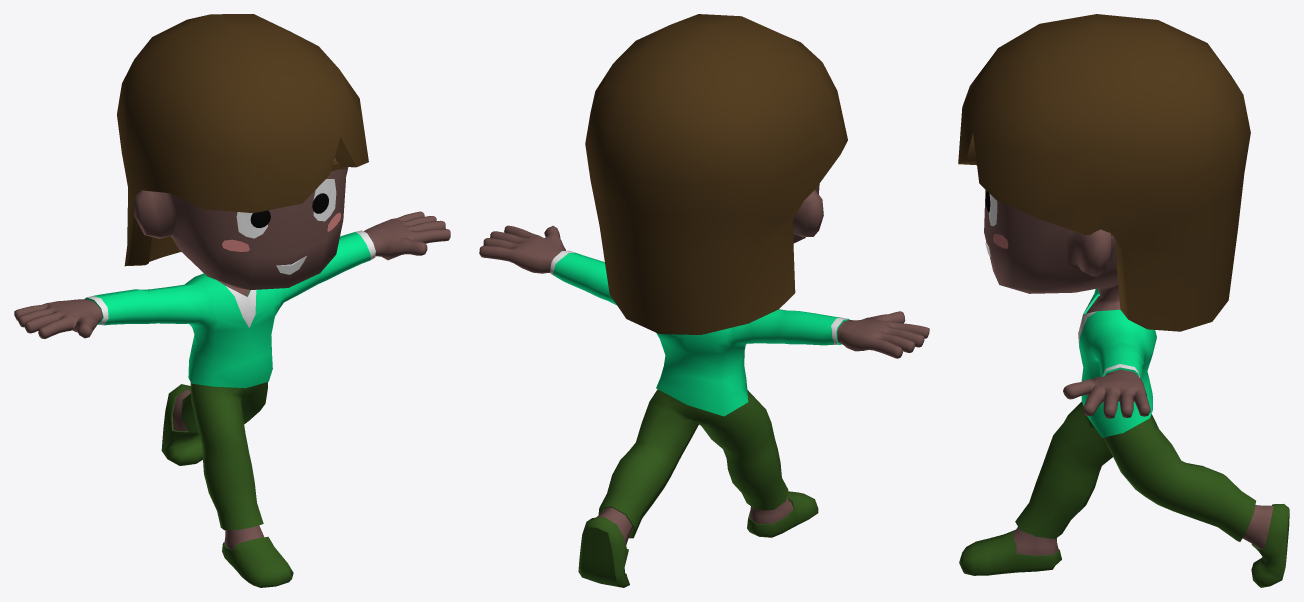
File: Personaje_juzgado.fbx
3 views of the same model, side by side, from view 1: azimuth 30°, elevation 25°; view 2: azimuth 150°, elevation 25°; view 3: azimuth 270°, elevation 25° (orthographic). The views are drawn at different scales.
Parts seen in each view (by area): view 1: hair6.006, body.029, shirt3.023, pants1.017, shoes2.010, eyes7.003, eyes6.017; view 2: hair6.006, pants1.017, shirt3.023, body.029, shoes2.010; view 3: hair6.006, pants1.017, body.029, shirt3.023, shoes2.010.
Part boxes in pixels (x1,y1,x2,y2): hair6.006: (117,14,368,266); body.029: (14,158,450,550); shirt3.023: (84,230,375,388); pants1.017: (181,382,267,530); shoes2.010: (161,384,293,587); eyes7.003: (236,179,336,238); eyes6.017: (250,193,328,228); hair6.006: (585,14,847,334); pants1.017: (598,389,788,538); shirt3.023: (550,250,849,416); body.029: (479,184,929,544); shoes2.010: (578,491,818,587); hair6.006: (958,14,1250,331); pants1.017: (1015,401,1255,541); body.029: (984,189,1273,555); shirt3.023: (1078,288,1156,437); shoes2.010: (959,504,1289,587).
Size of the model in its own units: 149 by 172 by 93.29.
